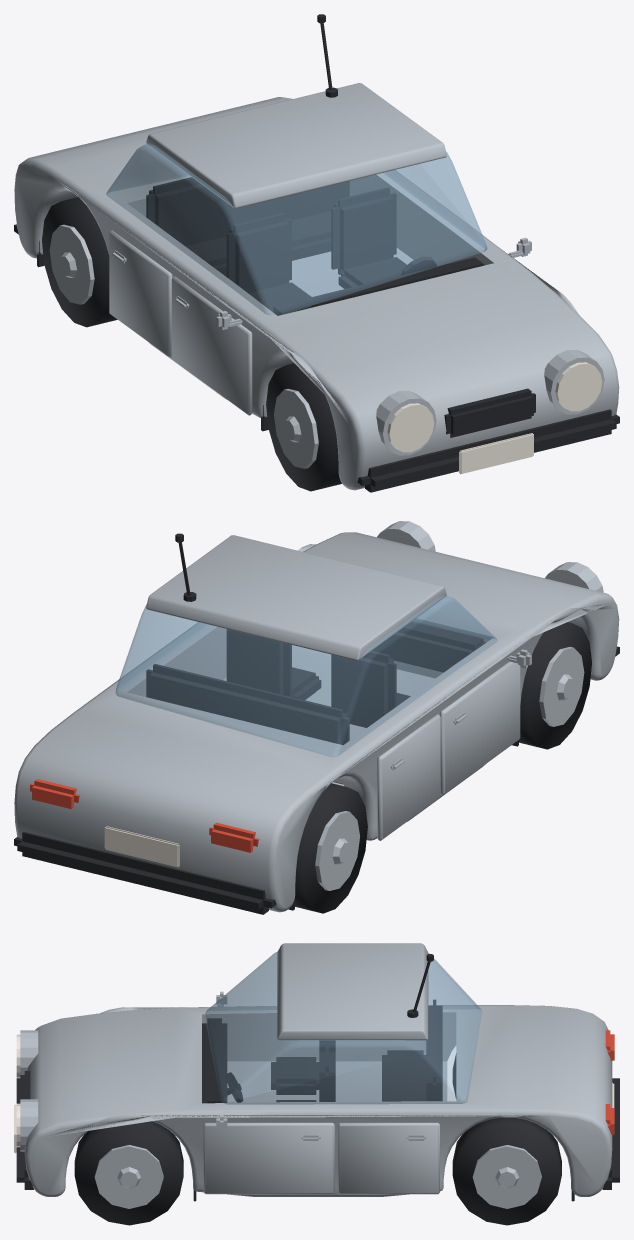
File: silver-family-sedan.glb
3 views of the same model, one above another, from view 1: azimuth 30°, elevation 25°; view 2: azimuth 150°, elevation 25°; view 3: azimuth 270°, elevation 25° (orthographic). The views are drawn at different scales.
Parts seen in each view (by area): view 1: Body, Cabin_Glass, Roof, Door_FR, Seat_RearBench_Back, Door_RR, Bumper_Front, Seat_Driver_Back, Seat_Passenger_Back, Wheel_RR, Wheel_FR, Grille (+11 smaller); view 2: Body, Cabin_Glass, Roof, Seat_RearBench_Back, Door_FR, Bumper_Rear, Door_RR, Wheel_RR, Wheel_FR, Seat_Passenger_Back, Seat_Driver_Back, Dashboard (+8 smaller); view 3: Body, Cabin_Glass, Roof, Door_FL, Door_RL, Wheel_RL, Wheel_FL, Hubcap_RL, Hubcap_FL, Seat_RearBench, Dashboard, Seat_Passenger (+6 smaller).
Boxes of the visible parts, box(x1,y1,x2,y2) form: Body: box(14, 97, 619, 490); Cabin_Glass: box(106, 144, 487, 315); Roof: box(146, 83, 446, 208); Door_FR: box(171, 276, 252, 415); Seat_RearBench_Back: box(146, 177, 349, 246); Door_RR: box(109, 230, 172, 357); Bumper_Front: box(357, 409, 619, 492); Seat_Driver_Back: box(331, 187, 396, 274); Seat_Passenger_Back: box(226, 213, 291, 292); Wheel_RR: box(42, 197, 117, 327); Wheel_FR: box(266, 363, 341, 491); Grille: box(444, 388, 535, 437); Body: box(14, 532, 619, 912); Cabin_Glass: box(115, 595, 497, 756); Roof: box(146, 535, 446, 660); Seat_RearBench_Back: box(146, 664, 349, 744); Door_FR: box(439, 656, 520, 794); Bumper_Rear: box(14, 831, 276, 914); Door_RR: box(377, 714, 440, 840); Wheel_RR: box(295, 783, 367, 913); Wheel_FR: box(519, 622, 591, 749); Seat_Passenger_Back: box(331, 651, 396, 725); Seat_Driver_Back: box(226, 629, 291, 696); Dashboard: box(372, 621, 486, 672); Body: box(24, 1005, 612, 1196); Cabin_Glass: box(204, 951, 481, 1104); Roof: box(277, 943, 428, 1040); Door_FL: box(203, 1122, 334, 1194); Door_RL: box(338, 1122, 439, 1194); Wheel_RL: box(452, 1117, 561, 1225); Wheel_FL: box(74, 1121, 183, 1225); Hubcap_RL: box(472, 1145, 541, 1208); Hubcap_FL: box(94, 1145, 163, 1208); Seat_RearBench: box(382, 1050, 426, 1101); Dashboard: box(202, 1018, 227, 1103); Seat_Passenger: box(271, 1057, 319, 1094).
Size of the model in its own units: 8.39 by 7.46 by 16.67.
